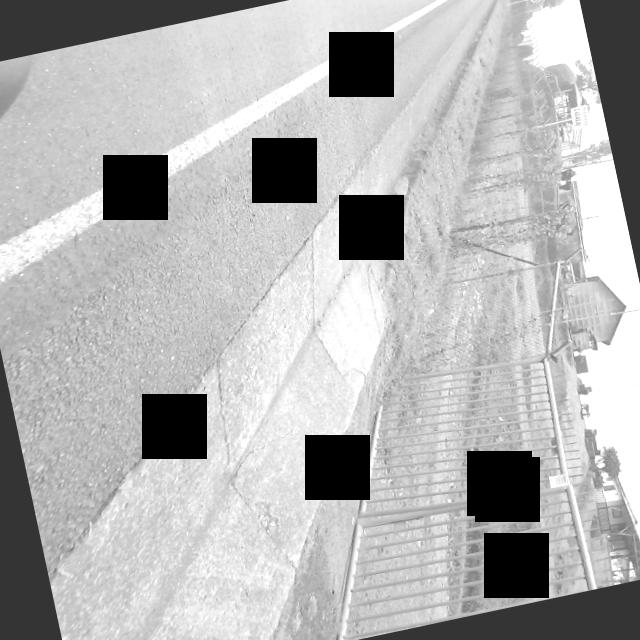DITCH: (0, 5, 640, 640), (0, 0, 633, 640)
